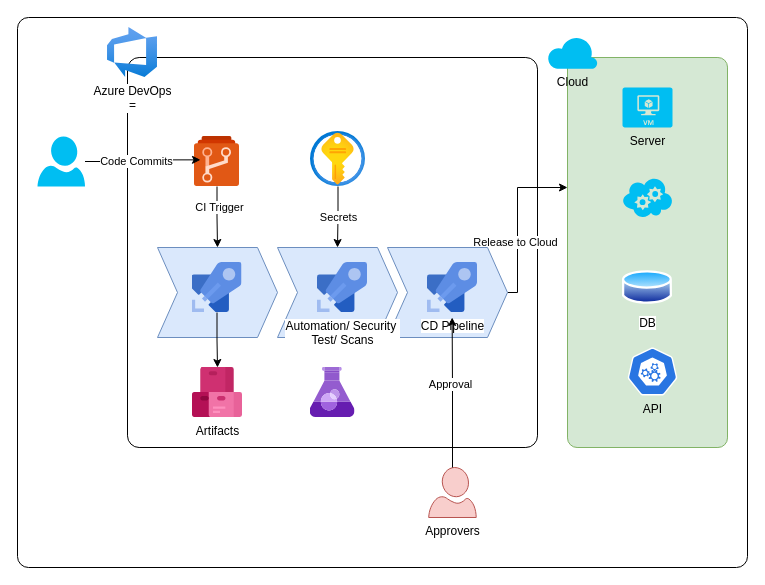
The diagram is 765 pixels wide and 585 high, and some of its shapes have lost their labels. The centre of each missing label's shape, as x and y in pixels:
CI Pipeline: (x=217, y=287)
Cloud Service: (x=647, y=197)
Dev: (x=60, y=161)
Tests: (x=332, y=392)
